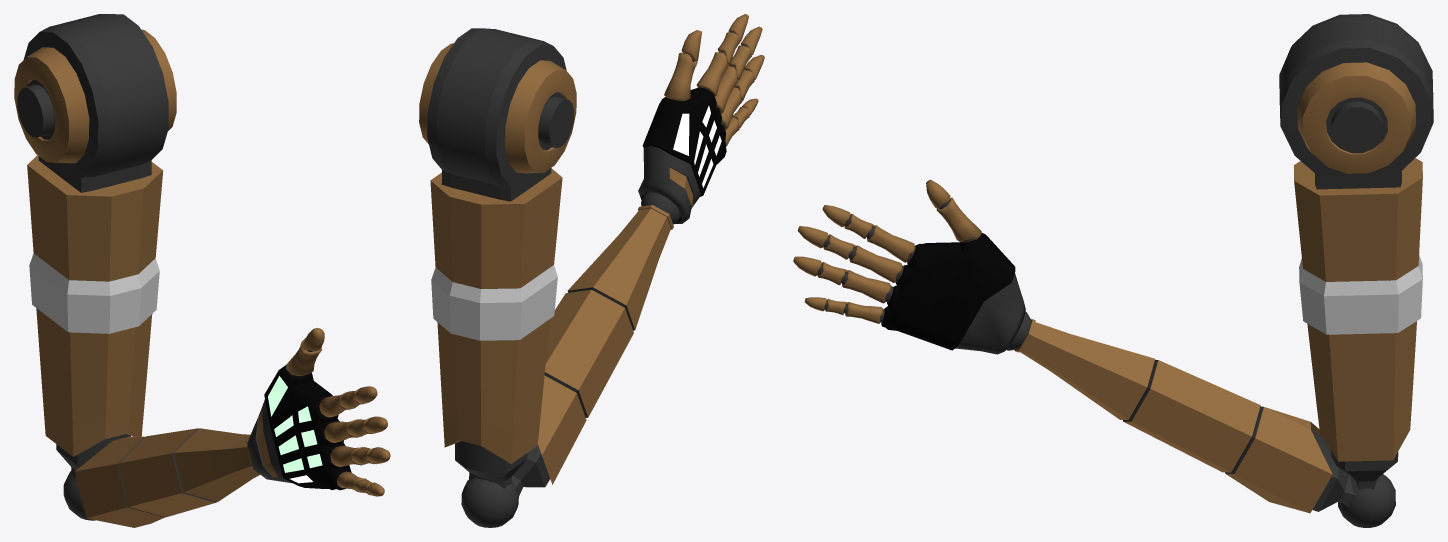
The model's file is Arm_right.fbx.
3 views of the same model, side by side, from view 1: azimuth 30°, elevation 25°; view 2: azimuth 150°, elevation 25°; view 3: azimuth 270°, elevation 25° (orthographic). The views are drawn at different scales.
Parts seen in each view (by area): view 1: Arm_right; view 2: Arm_right; view 3: Arm_right.
Part boxes in pixels (box(x1,y1,x2,y2)): Arm_right: box(14, 14, 390, 527); Arm_right: box(419, 14, 764, 527); Arm_right: box(793, 14, 1433, 527).
Bounding box in the file's own units: 0.1121 × 0.4044 × 0.474.
